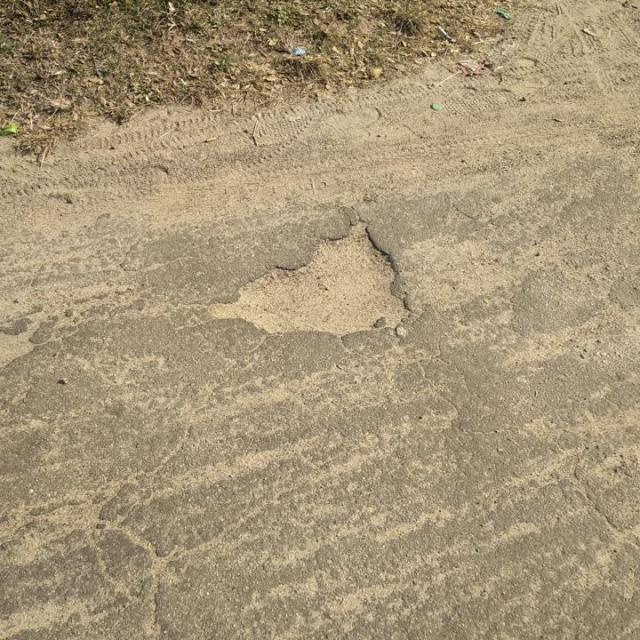medium_pothole: (204, 214, 414, 342)
